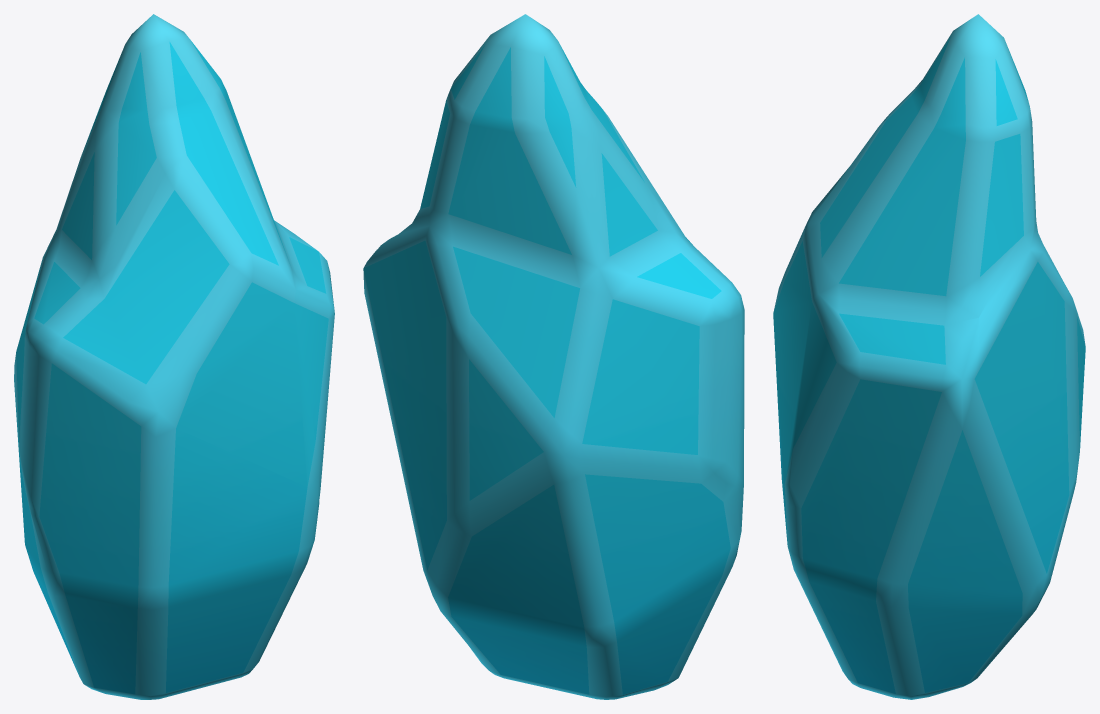
File: ice_019.fbx
3 views of the same model, side by side, from view 1: azimuth 30°, elevation 25°; view 2: azimuth 150°, elevation 25°; view 3: azimuth 270°, elevation 25° (orthographic). The views are drawn at different scales.
Parts seen in each view (by area): view 1: ice_019; view 2: ice_019; view 3: ice_019.
Part boxes in pixels (left/top/right/bottom): ice_019: left=14, top=14, right=334, bottom=699; ice_019: left=363, top=14, right=744, bottom=699; ice_019: left=773, top=14, right=1085, bottom=699.
Size of the model in its own units: 292 by 237 by 551.
